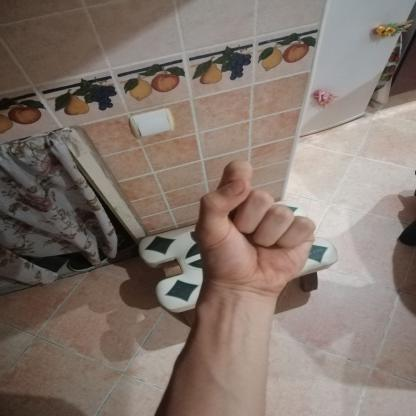FAA: (182, 150, 329, 306)
